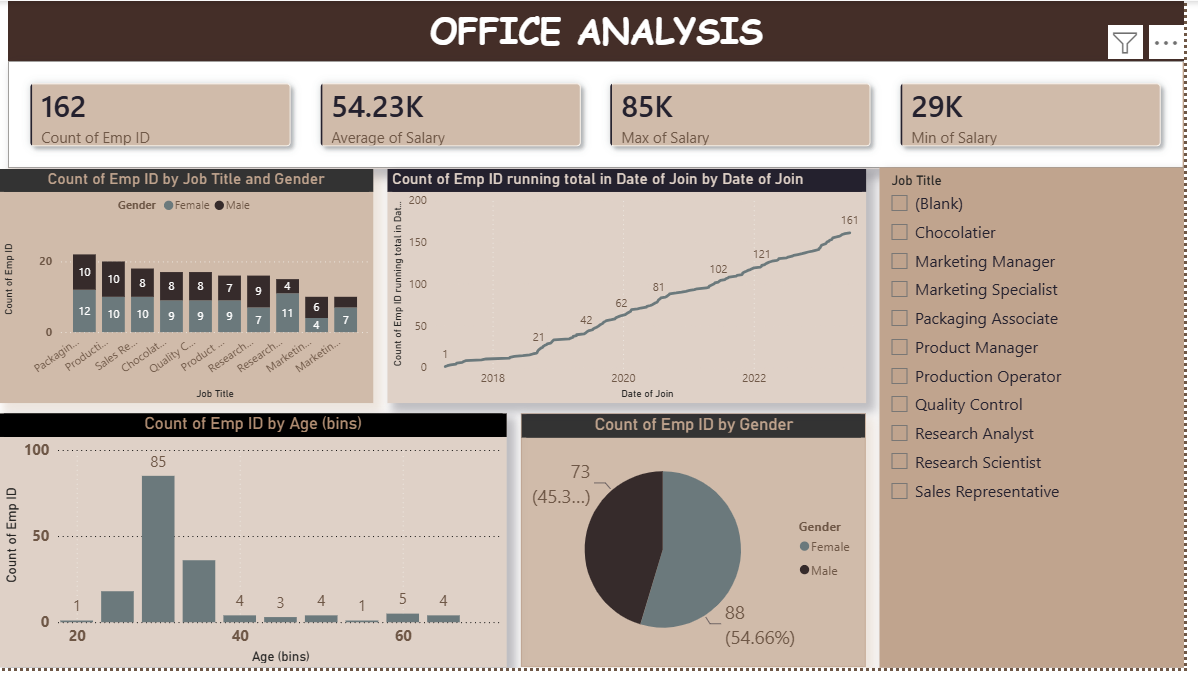

This screenshot's page, from the dashboard's own definition file:
{"tool":"powerbi","page":{"name":"DASHBOARD","canvas":[1280,720],"ordinal":8},"visuals":[{"type":"textbox","box":[10,0,1270,78],"z":0},{"type":"cardVisual","fields":{"Data":["Count(data.Emp ID)","Avg(data.Salary)","Max(data.Salary)1","Min(data.Salary)2"]},"box":[10,64,1270,116],"z":1000},{"type":"columnChart","fields":{"Category":["data.Job Title"],"Series":["data.Gender"],"Y":["CountNonNull(data.Emp ID)"]},"box":[0,180.6,404.2,252.8],"z":2000},{"type":"pieChart","fields":{"Category":["data.Gender"],"Y":["CountNonNull(data.Emp ID)"]},"box":[563.9,445.8,372.2,273.6],"z":3000},{"type":"lineChart","fields":{"Category":["data.Date of Join"],"Y":["data.Count of Emp ID running total in Date of Join"]},"box":[419.4,180.6,516.7,252.8],"z":4000},{"type":"clusteredColumnChart","fields":{"Category":["data.Age (bins)"],"Y":["CountNonNull(data.Emp ID)"]},"box":[0,446,548,274],"z":5000},{"type":"slicer","fields":{"Values":["data.Job Title"]},"box":[950,180,330,540],"z":6000}]}

Visuals, with their boxes in screenshot pixels (x1, y1, x2, y2), scaled from the page's 1280x720 canvas onto the 1198x675 screenshot:
textbox: x1=9, y1=0, x2=1197, y2=73
cardVisual - Count(data.Emp ID) x Avg(data.Salary): x1=9, y1=60, x2=1197, y2=169
columnChart - data.Job Title x data.Gender: x1=0, y1=169, x2=378, y2=406
pieChart - data.Gender x CountNonNull(data.Emp ID): x1=528, y1=418, x2=876, y2=674
lineChart - data.Date of Join x data.Count of Emp ID running total in Date of Join: x1=393, y1=169, x2=876, y2=406
clusteredColumnChart - data.Age (bins) x CountNonNull(data.Emp ID): x1=0, y1=418, x2=513, y2=674
slicer - data.Job Title: x1=889, y1=169, x2=1197, y2=674
